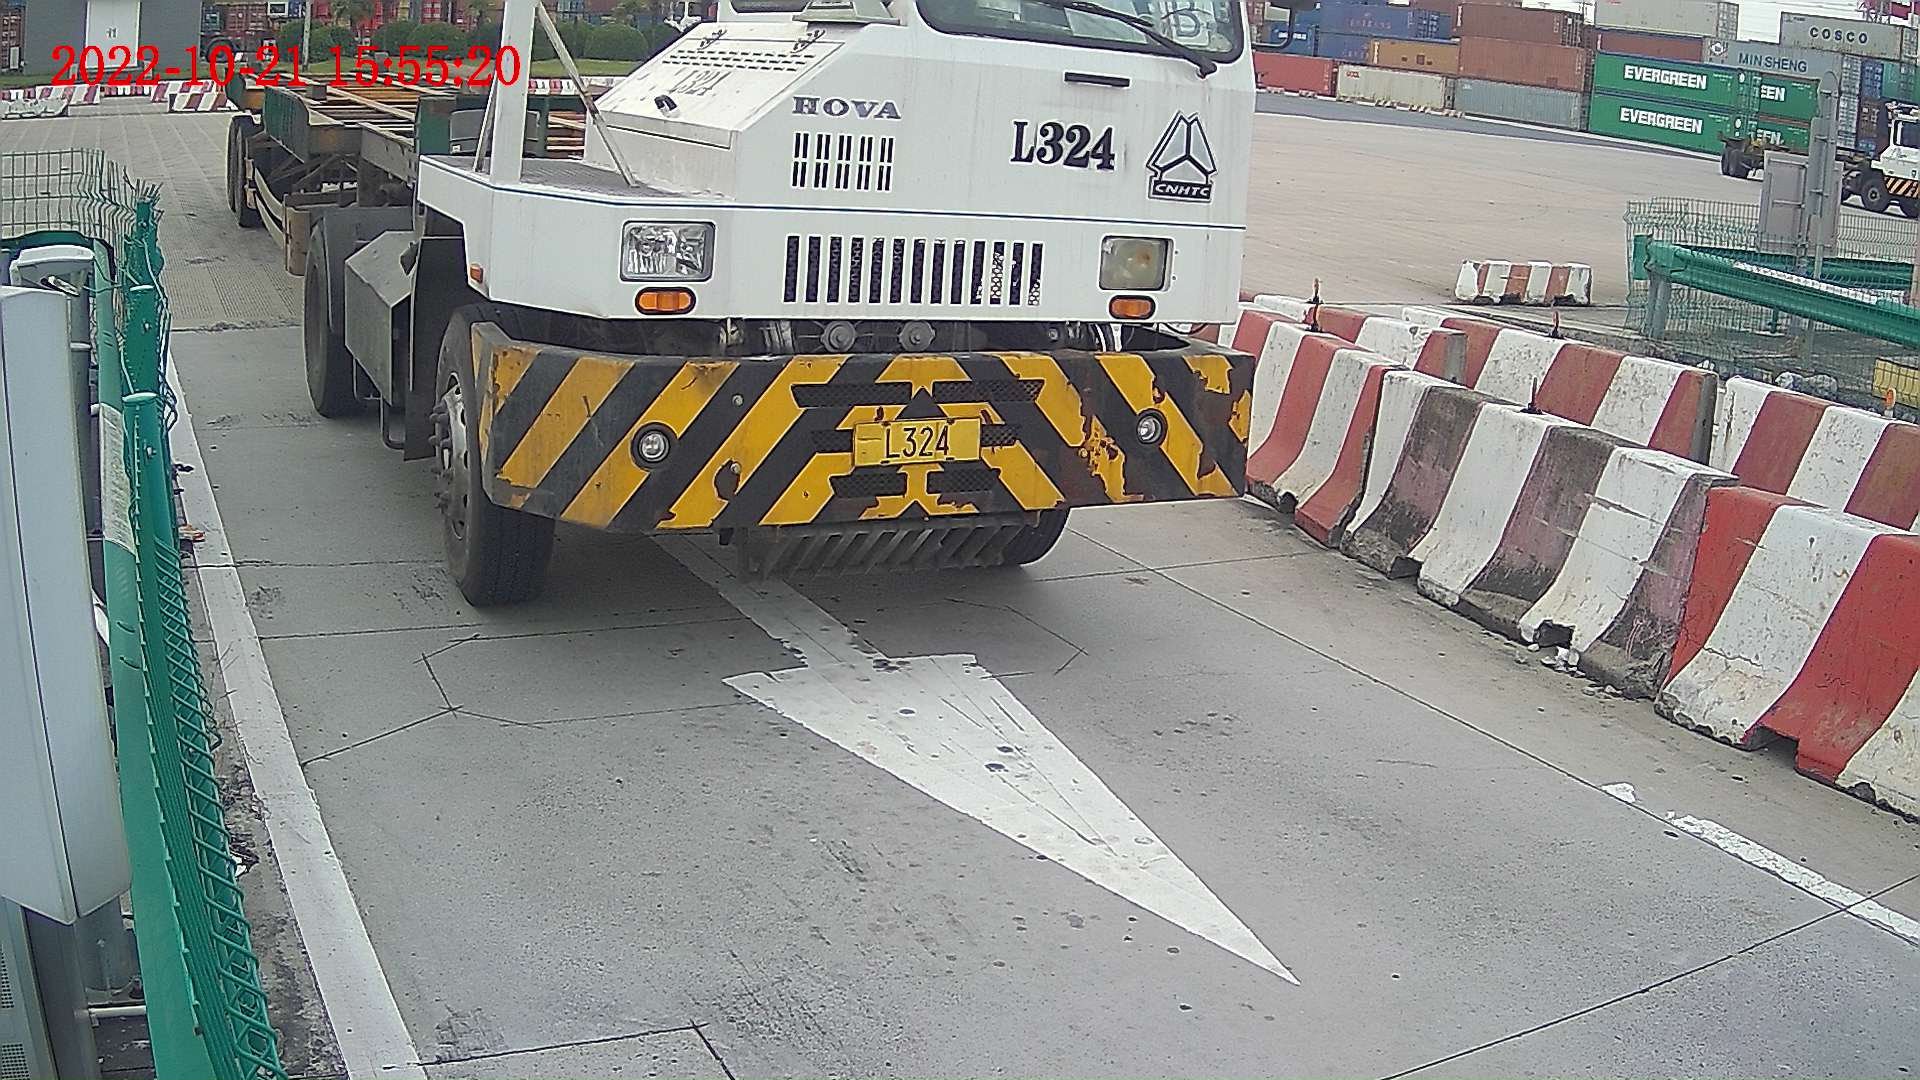head: (412, 5, 1258, 607)
plate: (856, 422, 980, 460)
